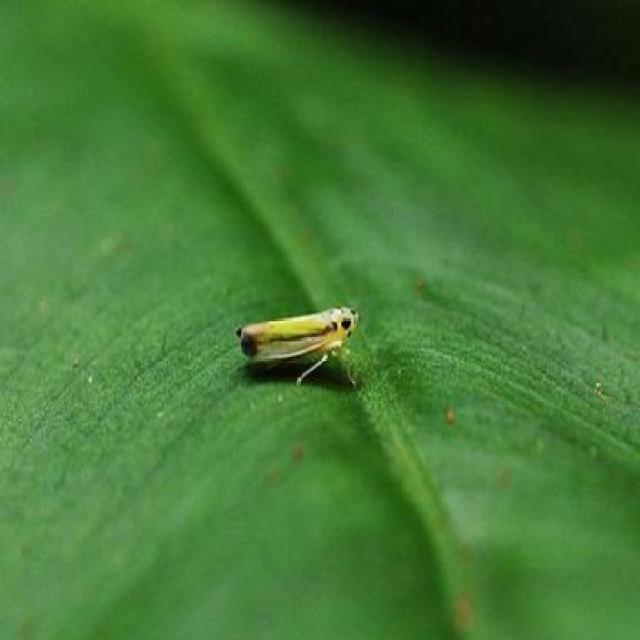green-leafhopper: (238, 302, 359, 383)
